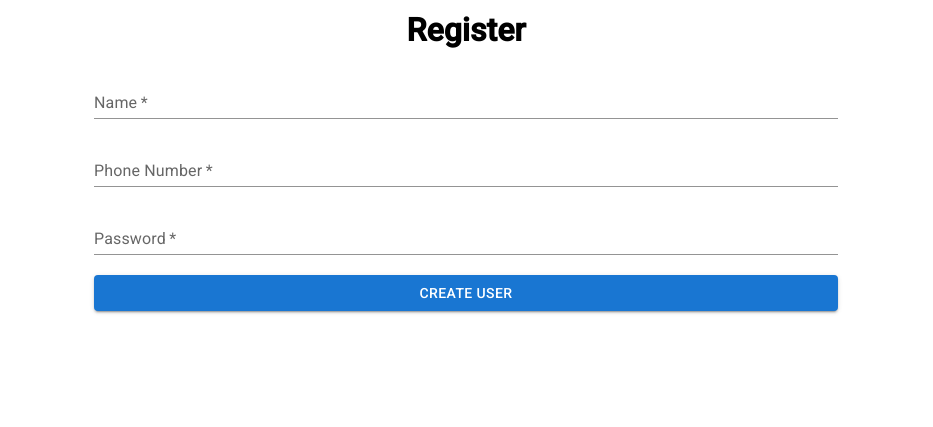
Test: CreateUser Component › should handle login errors
Type "John Doe" into the field labelled "Name *" at [466, 103], box [94,87,838,119]
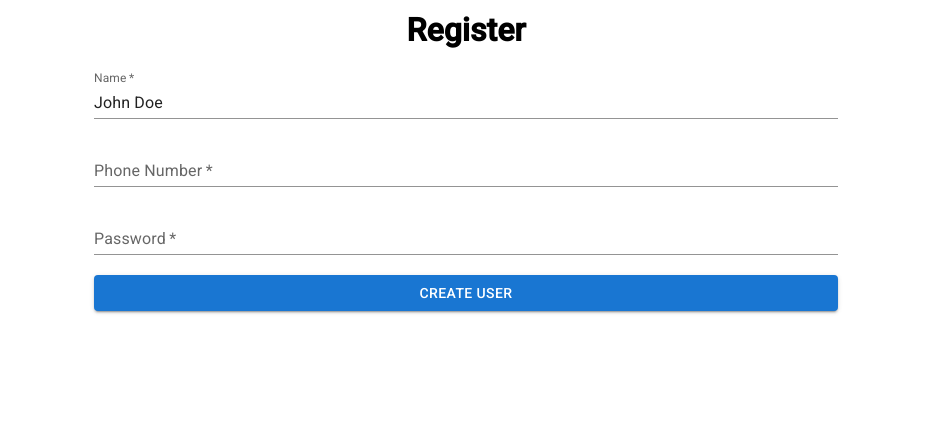
Type "1234567890" into the field labelled "Phone Number *" at [466, 171], box [94,155,838,187]
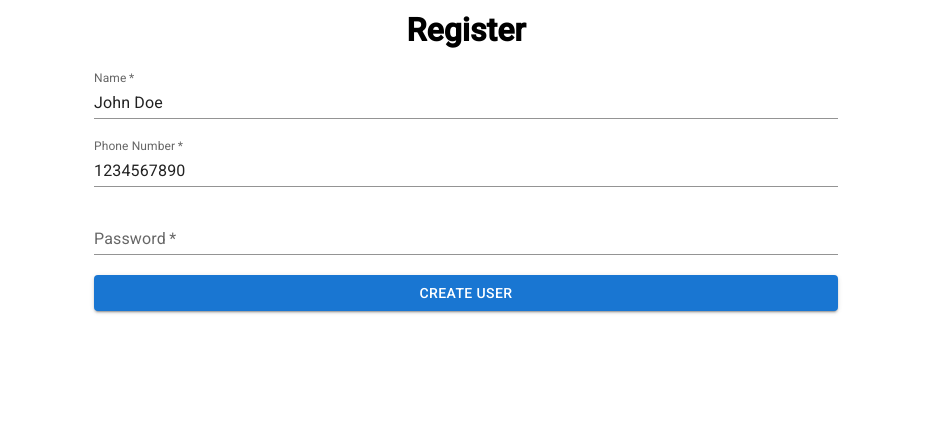
Type "password123" into the password field labelled "Password *" at [466, 239], box [94,223,838,255]
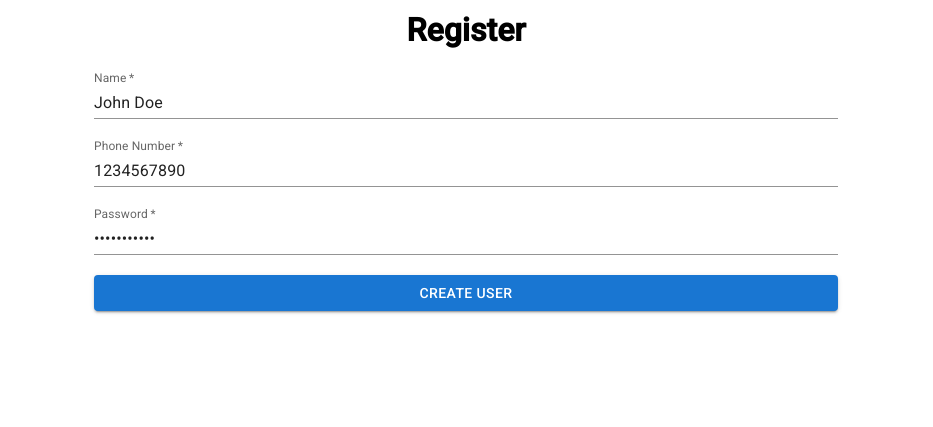
Click the button "Create User" at [466, 293], box [94,275,838,311]
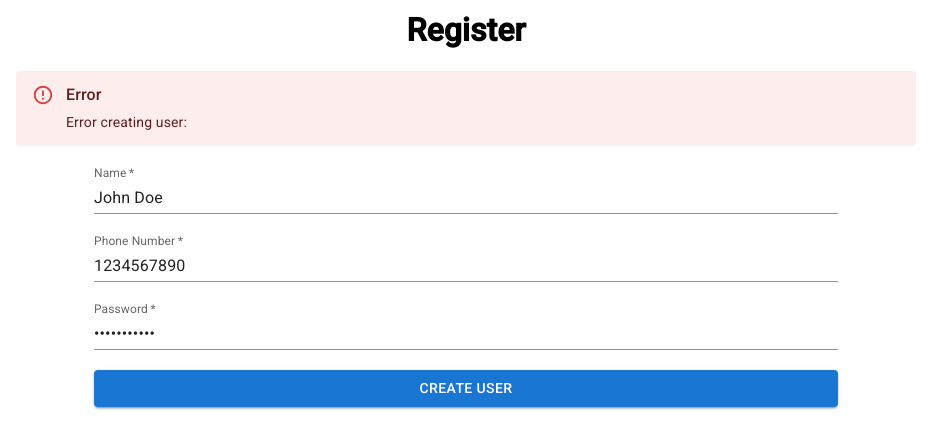
expect the text "Error Error creating user:" is shown: met, box [66,77,187,140]
